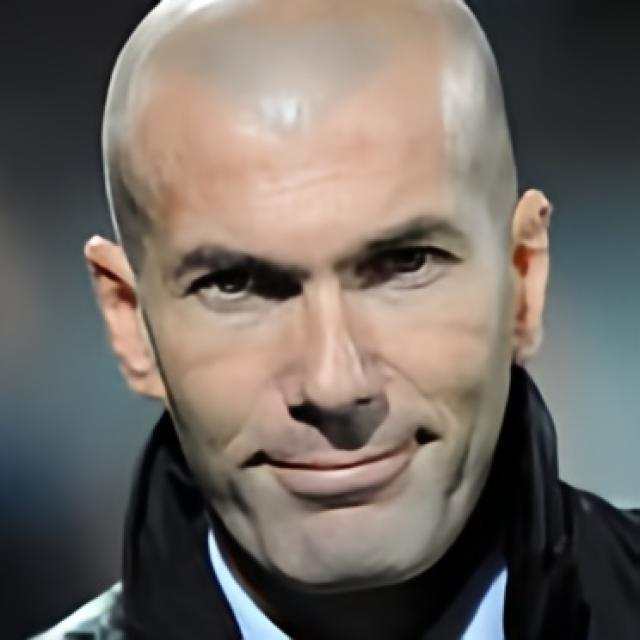content: (145, 75, 508, 584)
